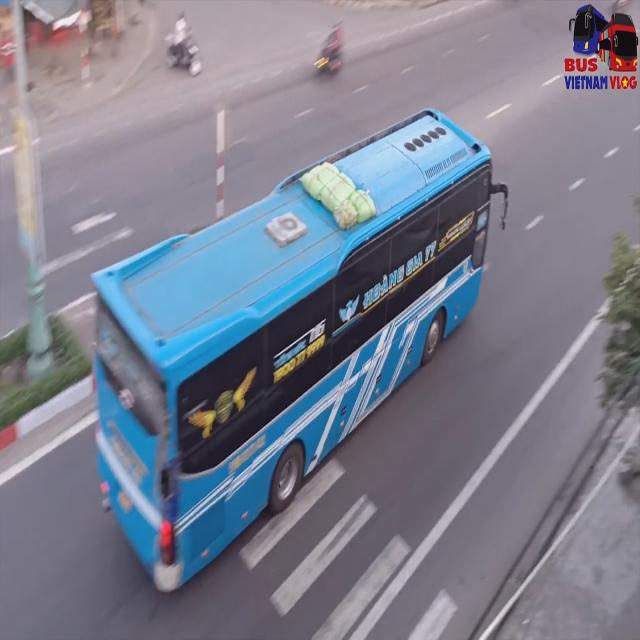bus: (92, 110, 493, 593)
motorbike: (168, 6, 200, 74)
